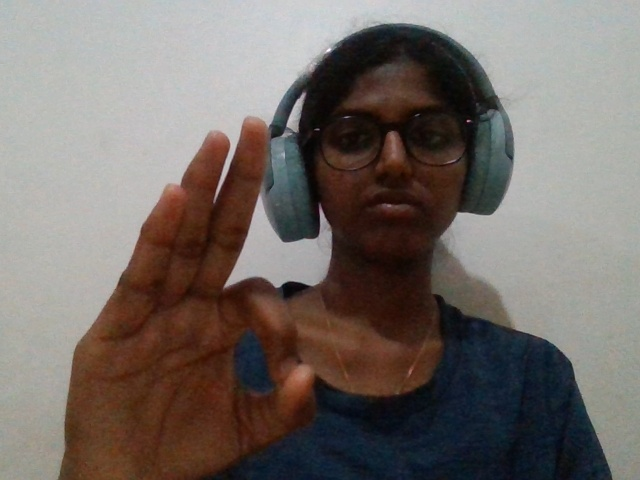F: (49, 101, 323, 466)
